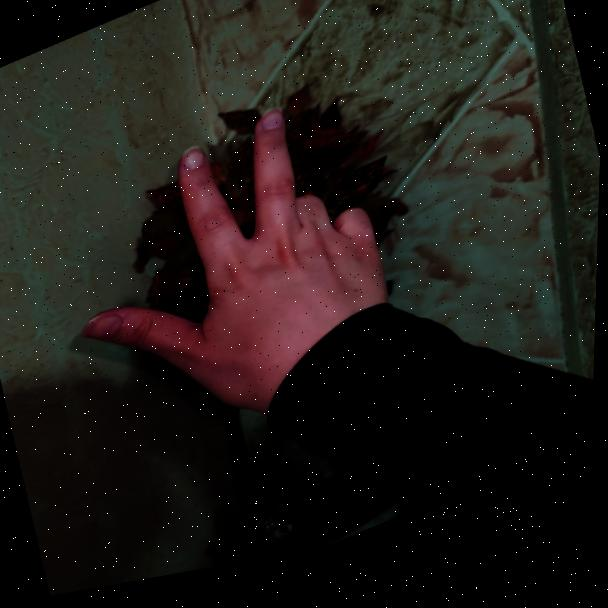three: (41, 85, 398, 470)
